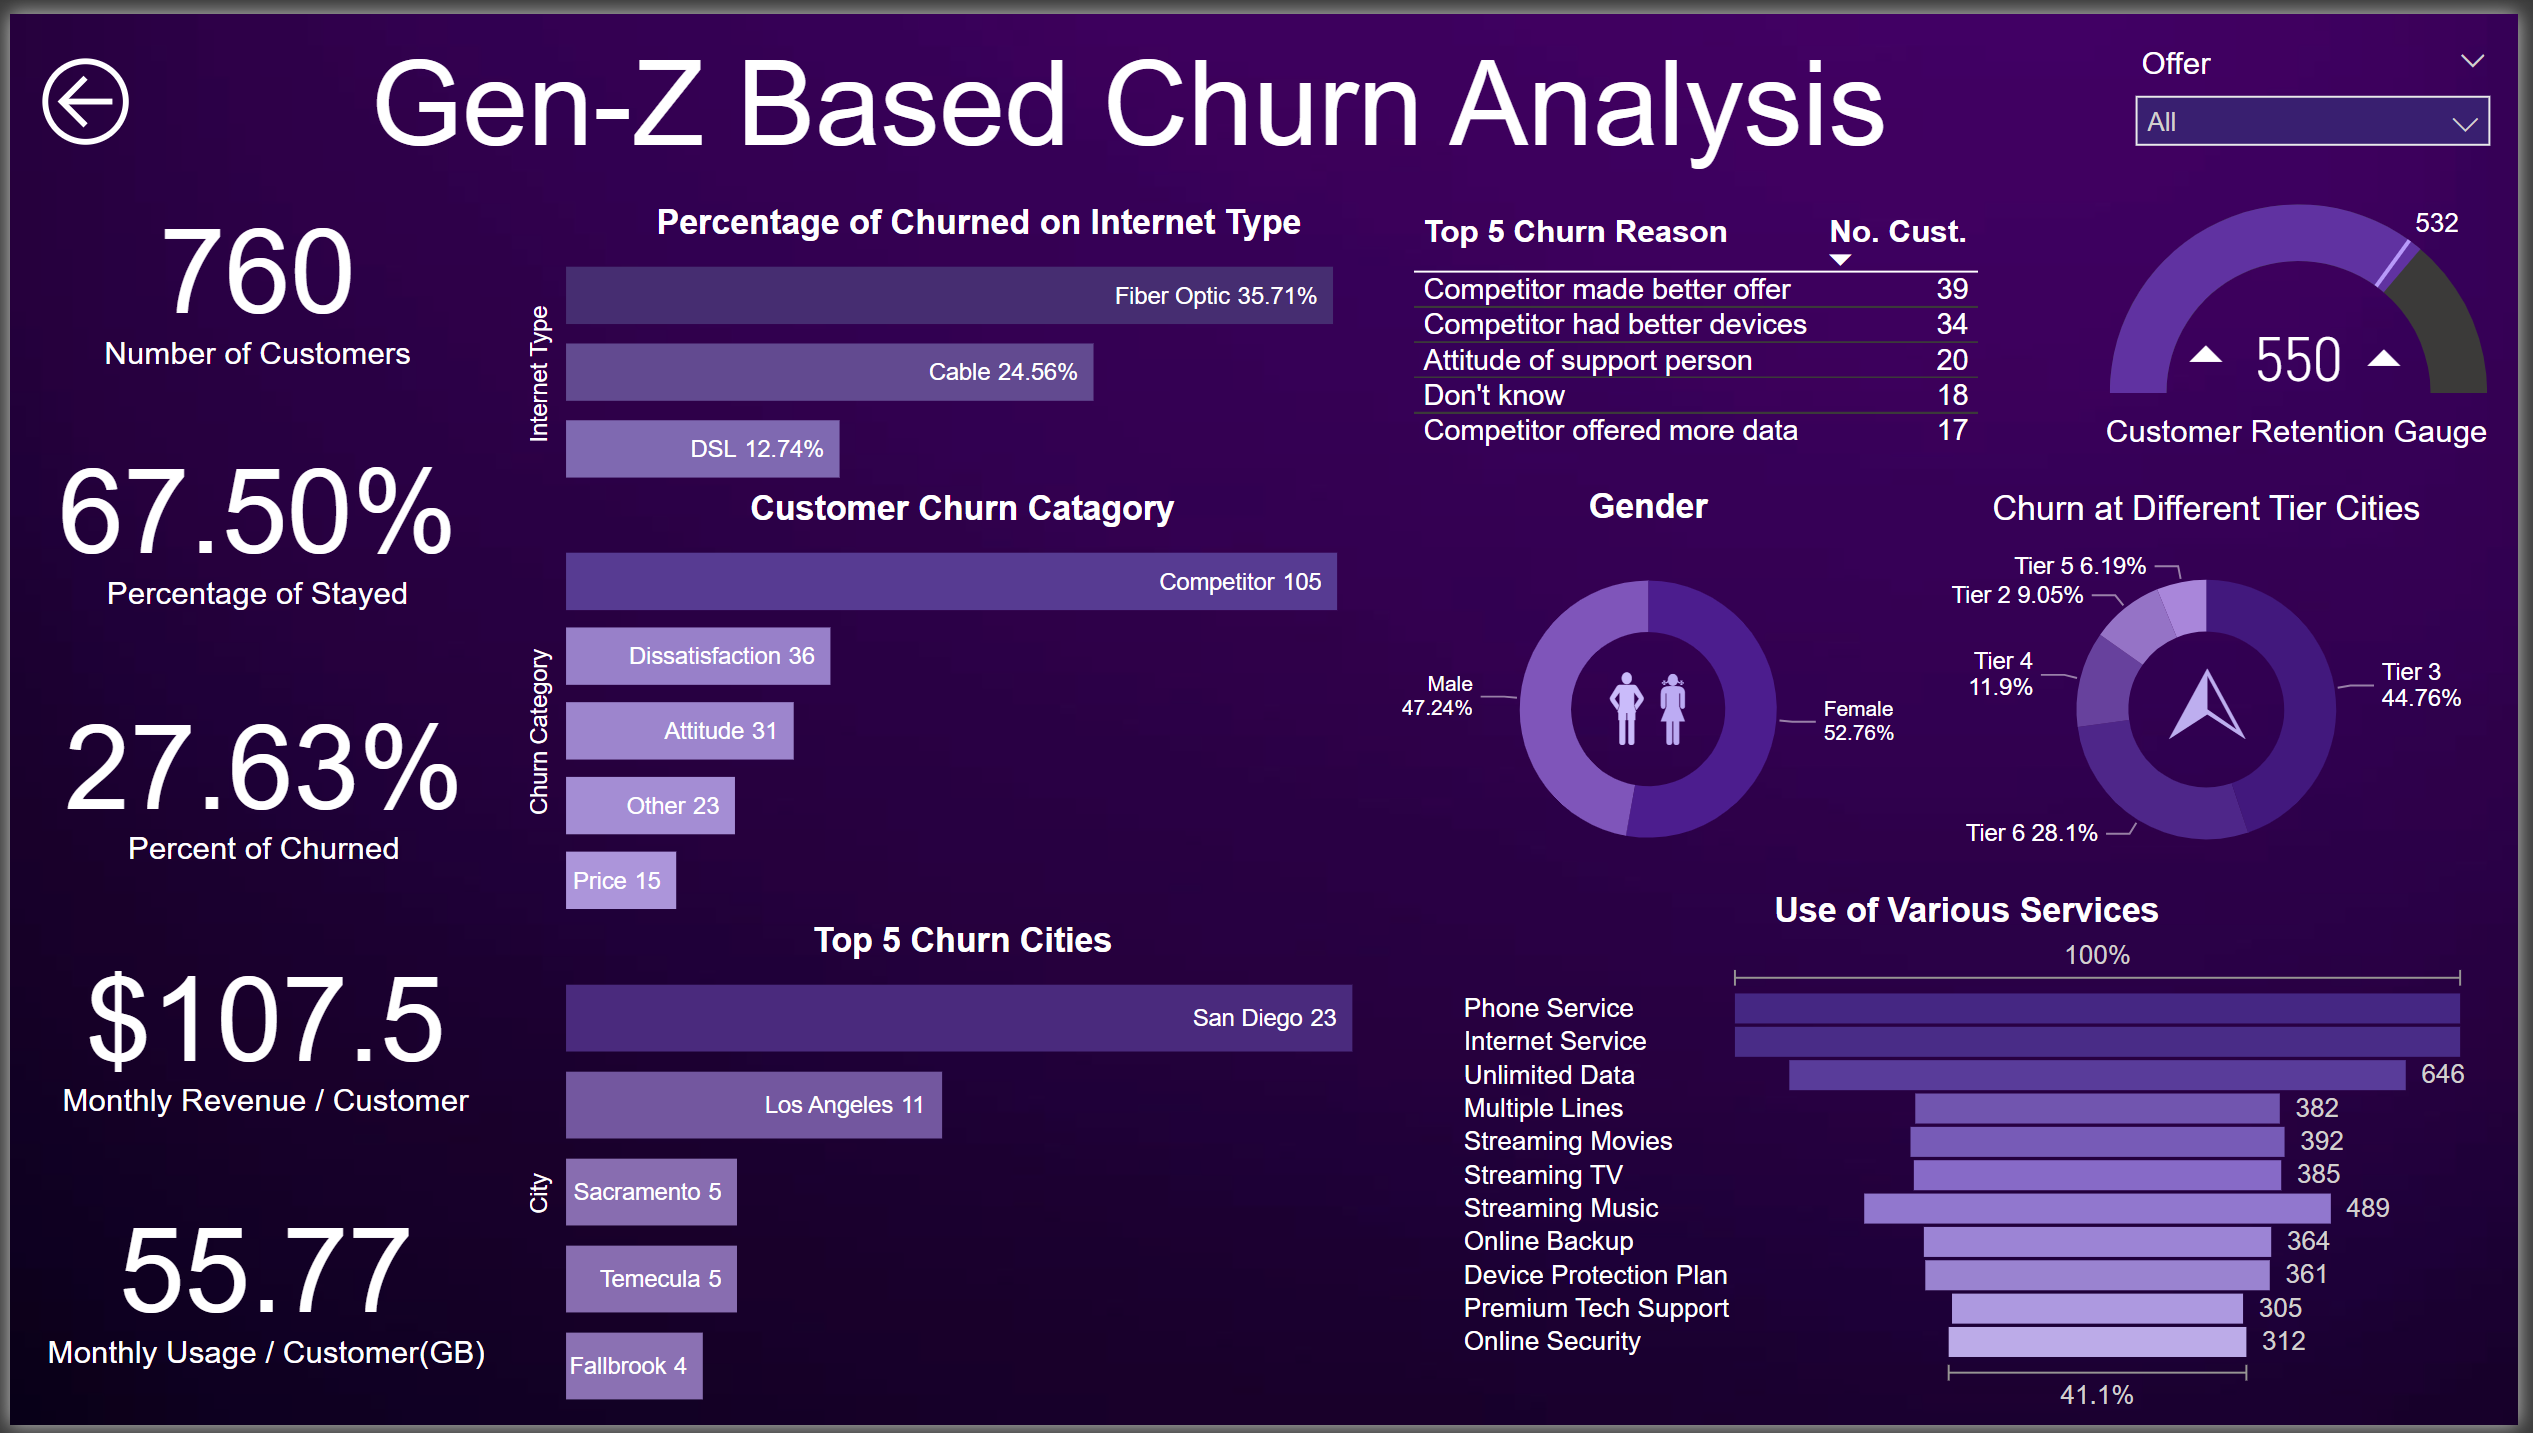

This screenshot's page, from the dashboard's own definition file:
{"tool":"powerbi","page":{"name":"Drill Through","canvas":[1280,720],"ordinal":2},"visuals":[{"type":"card","fields":{"Values":["Min(telecom_customer_churn.Age title)"]},"box":[69.7,1.6,998.1,82.6],"z":0},{"type":"gauge","title":"Customer Retention Gauge","fields":{"Y":["Sum(telecom_customer_churn.Retention)"],"MaxValue":["telecom_customer_churn.total customer"],"TargetValue":["telecom_customer_churn.Retaintion Rate"]},"box":[1066.1,84.3,202.5,115],"z":1000},{"type":"card","fields":{"Values":["CountNonNull(telecom_customer_churn.Customer ID)"]},"box":[19.5,84.7,213.9,102.1],"z":2000},{"type":"card","fields":{"Values":["Avg(telecom_customer_churn.Monthly Revenue)"]},"box":[19.5,463.8,222,105.3],"z":3000},{"type":"card","fields":{"Values":["Avg(telecom_customer_churn.Avg Monthly GB Download)"]},"box":[13.1,591.6,234.9,106.9],"z":4000},{"type":"funnel","title":"Use of Various Services","fields":{"Y":["Sum(telecom_customer_churn.Phone Service)","Sum(telecom_customer_churn.Internet Service)","Sum(telecom_customer_churn.Unlimited Data)","Sum(telecom_customer_churn.Multiple Lines)","Sum(telecom_customer_churn.Streaming Movies)","Sum(telecom_customer_churn.Streaming TV)","Sum(telecom_customer_churn.Streaming Music)","Sum(telecom_customer_churn.Online Backup)","Sum(telecom_customer_churn.Device Protection Plan)","Sum(telecom_customer_churn.Premium Tech Support)","Sum(telecom_customer_churn.Online Security)"]},"box":[736.7,448.3,523.3,270],"z":5000},{"type":"textbox","box":[1064.5,199.3,215.5,32.4],"z":6000},{"type":"actionButton","box":[9.7,16.2,59.9,56.7],"z":7000},{"type":"clusteredBarChart","title":"Customer Churn Catagory","fields":{"Category":["telecom_customer_churn.Churn Category"],"Y":["CountNonNull(telecom_customer_churn.Customer ID)"]},"box":[260,243.3,451.7,220],"z":8000},{"type":"card","fields":{"Values":["telecom_customer_churn.Percent of Churned"]},"box":[19.5,335.8,220.4,105.3],"z":9000},{"type":"card","fields":{"Values":["telecom_customer_churn.Percent of Stayed"]},"box":[19.5,206.2,213.9,103.7],"z":10000},{"type":"slicer","title":"Offer","fields":{"Values":["telecom_customer_churn.Offer"]},"box":[1074.2,11.3,200.9,63.2],"z":11000},{"type":"clusteredBarChart","title":"Percentage of Churned on Internet Type","fields":{"Category":["telecom_customer_churn.Internet Type"],"Y":["telecom_customer_churn.Percent of Churned"]},"box":[260,96.7,468.3,146.7],"z":12000},{"type":"pivotTable","fields":{"Rows":["telecom_customer_churn.Churn Reason"],"Values":["CountNonNull(telecom_customer_churn.Customer ID)"]},"box":[711.7,96.7,356.7,146.7],"z":13000},{"type":"clusteredBarChart","title":"Top 5 Churn Cities","fields":{"Category":["telecom_customer_churn.City"],"Y":["CountNonNull(telecom_customer_churn.Customer Status)"]},"box":[260,463.3,451.7,250],"z":14000},{"type":"donutChart","title":"Gender","fields":{"Category":["telecom_customer_churn.Gender"],"Y":["CountNonNull(telecom_customer_churn.Customer ID)"]},"box":[700,241.7,271.7,206.7],"z":15000},{"type":"donutChart","title":"Churn at Different Tier Cities","fields":{"Category":["telecom_zipcode_population.Tier Classification"],"Y":["CountNonNull(telecom_customer_churn.Customer Status)"]},"box":[971.7,243.3,298.3,205],"z":16000},{"type":"card","fields":{"Values":["telecom_customer_churn.Retain Status"]},"box":[1088.8,145.2,64.8,55.1],"z":17000},{"type":"card","fields":{"Values":["telecom_customer_churn.Retain Status"]},"box":[1179.5,146.8,64.8,55.1],"z":18000},{"type":"textbox","box":[1091.5,305.8,80.4,88.3],"z":19000},{"type":"textbox","box":[792.3,306.2,64.8,85.9],"z":20000},{"type":"textbox","box":[815,306.2,74.5,89.1],"z":21000}]}

Visuals, with their boxes in screenshot pixels (x1, y1, x2, y2), scaled from the page's 1280x720 canvas onto the 2533x1433 screenshot:
card - Min(telecom_customer_churn.Age title): 138,3,2113,168
"Customer Retention Gauge" gauge: 2110,168,2510,397
card - CountNonNull(telecom_customer_churn.Customer ID): 39,169,462,372
card - Avg(telecom_customer_churn.Monthly Revenue): 39,923,478,1133
card - Avg(telecom_customer_churn.Avg Monthly GB Download): 26,1177,491,1390
"Use of Various Services" funnel: 1458,892,2493,1430
textbox: 2107,397,2532,461
actionButton: 19,32,138,145
"Customer Churn Catagory" clusteredBarChart: 515,484,1408,922
card - telecom_customer_churn.Percent of Churned: 39,668,475,878
card - telecom_customer_churn.Percent of Stayed: 39,410,462,617
"Offer" slicer: 2126,22,2523,148
"Percentage of Churned on Internet Type" clusteredBarChart: 515,192,1441,484
pivotTable - telecom_customer_churn.Churn Reason x CountNonNull(telecom_customer_churn.Customer ID): 1408,192,2114,484
"Top 5 Churn Cities" clusteredBarChart: 515,922,1408,1420
"Gender" donutChart: 1385,481,1923,892
"Churn at Different Tier Cities" donutChart: 1923,484,2513,892
card - telecom_customer_churn.Retain Status: 2155,289,2283,399
card - telecom_customer_churn.Retain Status: 2334,292,2462,402
textbox: 2160,609,2319,784
textbox: 1568,609,1696,780
textbox: 1613,609,1760,787
